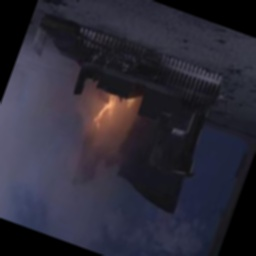fire: (81, 83, 140, 152)
smoke: (0, 86, 75, 229)
